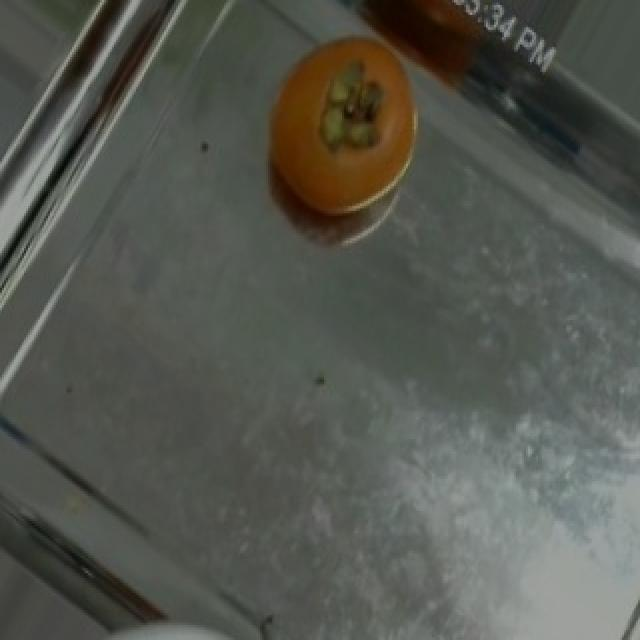Fruit: (240, 8, 442, 238)
